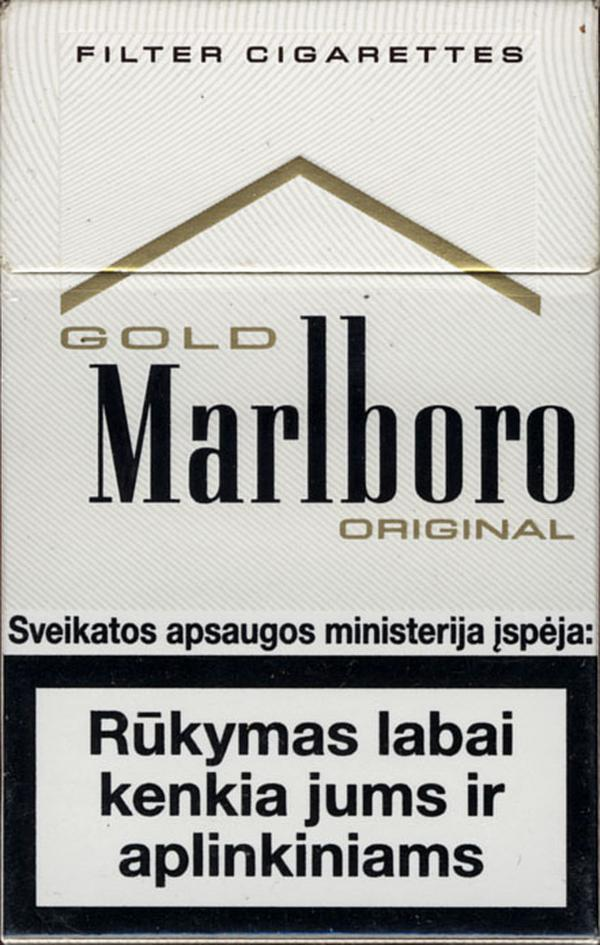marlboro_gold: (3, 1, 598, 934)
